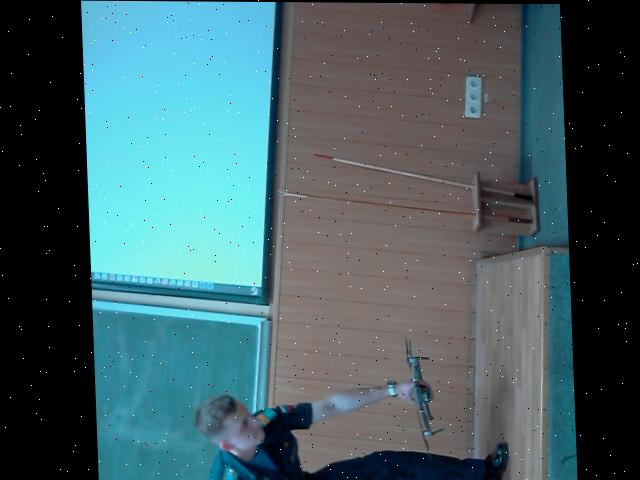drone: (390, 323, 440, 447)
